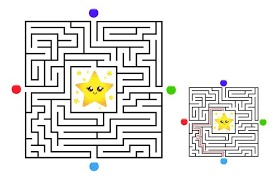maze: (26, 21, 163, 158), (189, 87, 259, 158)
